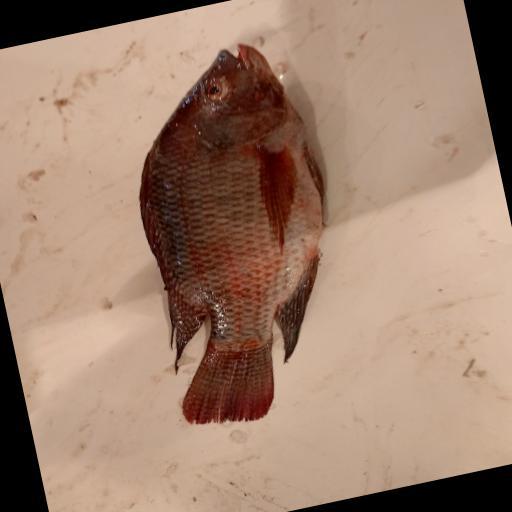Tilapia: (109, 32, 370, 435)
